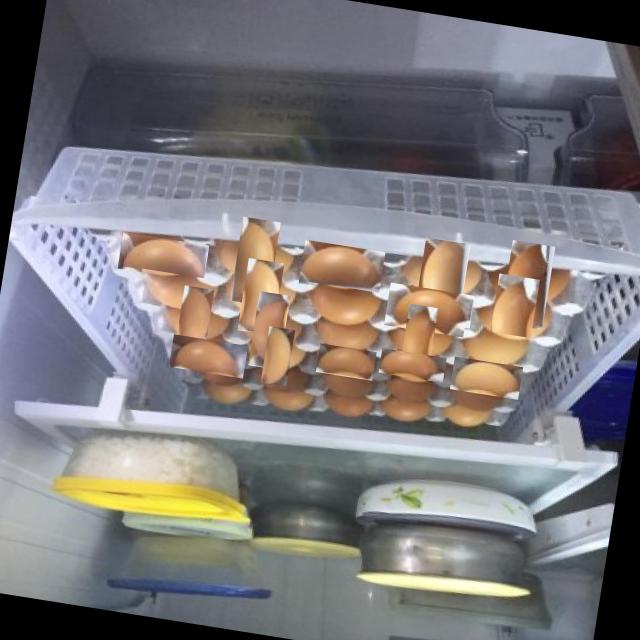eggs: (491, 248, 565, 322), (477, 282, 550, 356), (384, 282, 475, 339), (220, 226, 291, 298), (298, 240, 386, 297), (117, 232, 210, 283), (408, 244, 477, 312), (136, 268, 222, 314), (303, 282, 386, 329), (230, 266, 292, 328), (239, 300, 300, 360), (168, 334, 248, 379), (459, 328, 537, 372), (310, 312, 384, 358), (449, 356, 524, 401), (390, 312, 448, 369), (165, 294, 222, 352), (378, 348, 447, 384), (315, 343, 377, 381), (254, 332, 302, 380)
